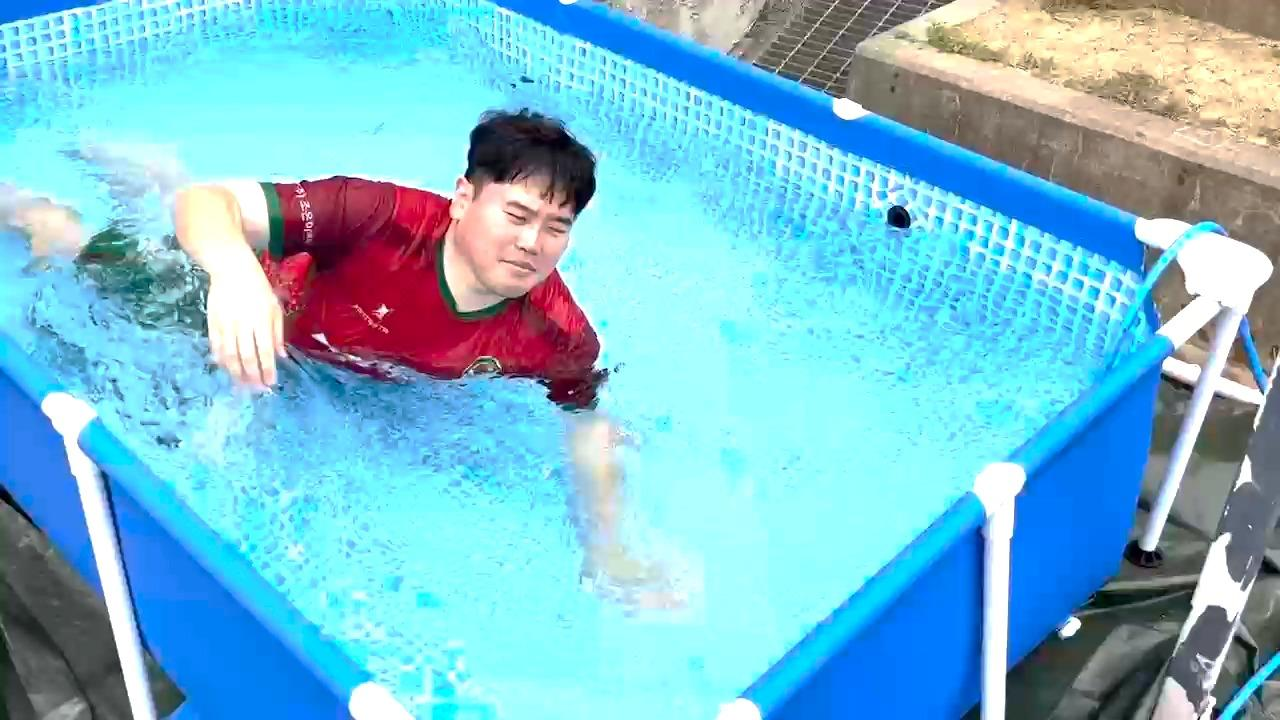Swimming: (0, 57, 731, 606)
